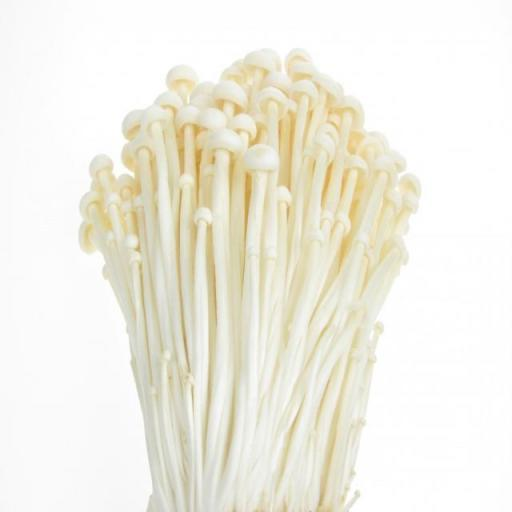Enoki Mushroom: (81, 46, 418, 511)
